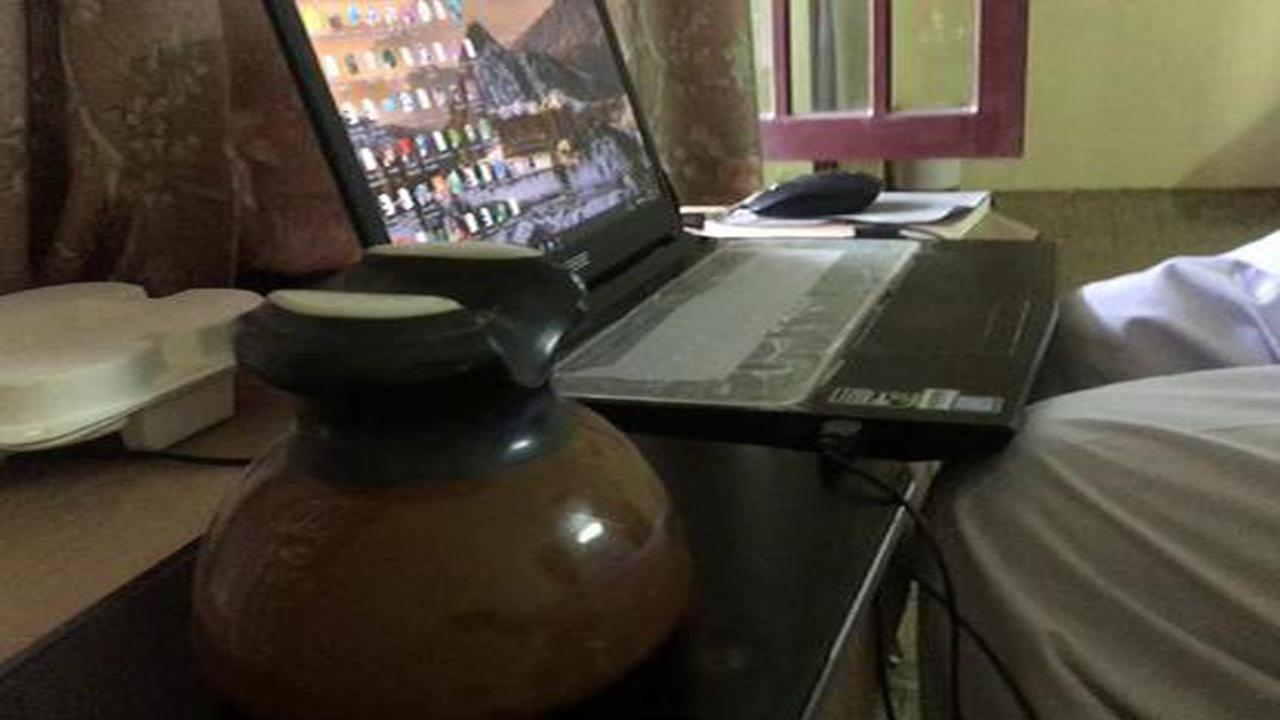insulator_pin: (164, 239, 733, 720)
